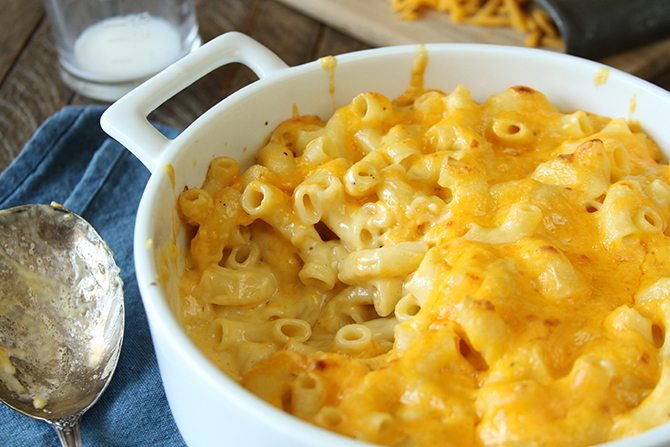macncheese: (120, 108, 569, 411)
